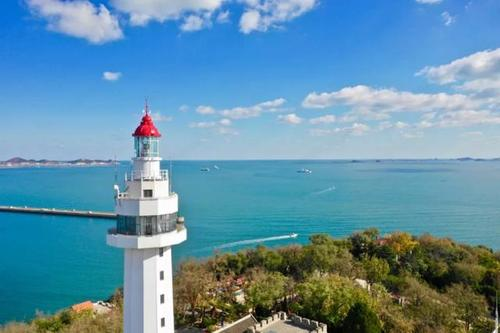sea_river: (8, 166, 492, 231)
sky_cloud: (3, 52, 499, 147)
